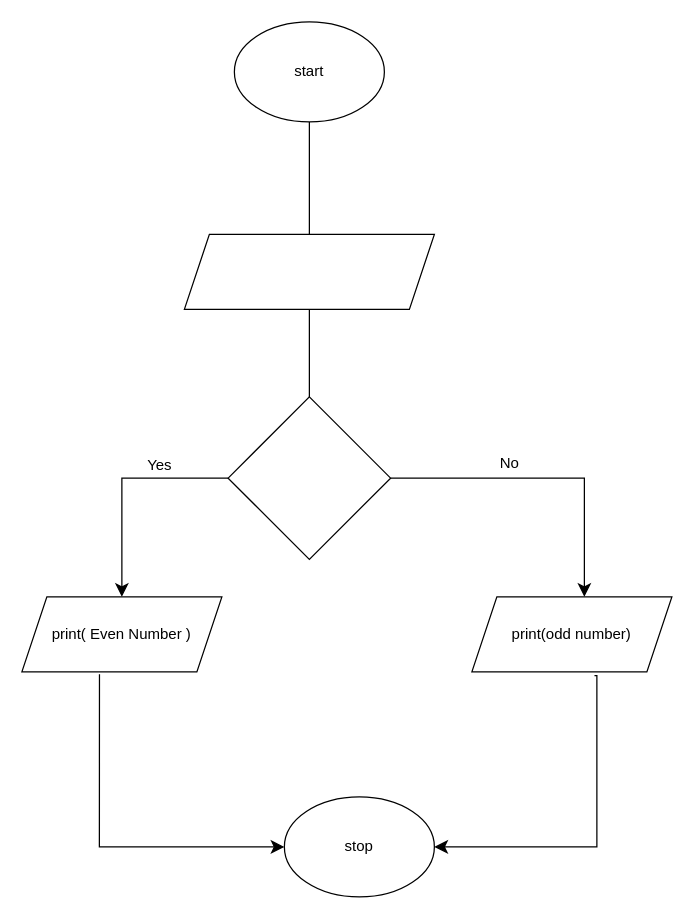
The diagram is 694 pixels wide and 919 high, and some of its shapes have lost their labels. The shapes that lost their labels are listed below. From the top down, each one's centre as x and y in pixels, then its label:
pixel 308 271: input number to check
pixel 309 477: if num % 2 == 0
